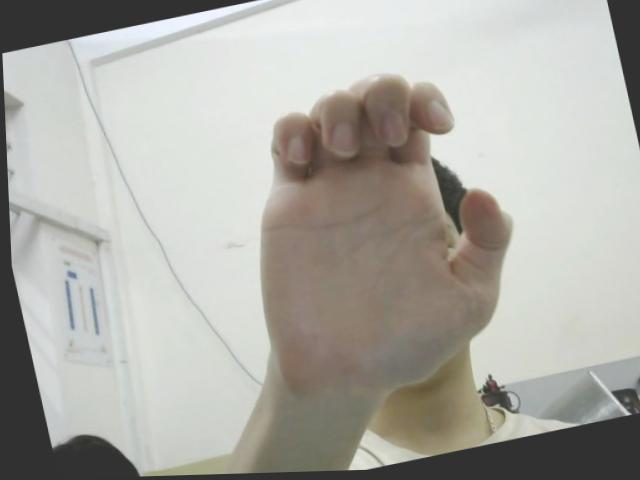E: (211, 52, 541, 413)
